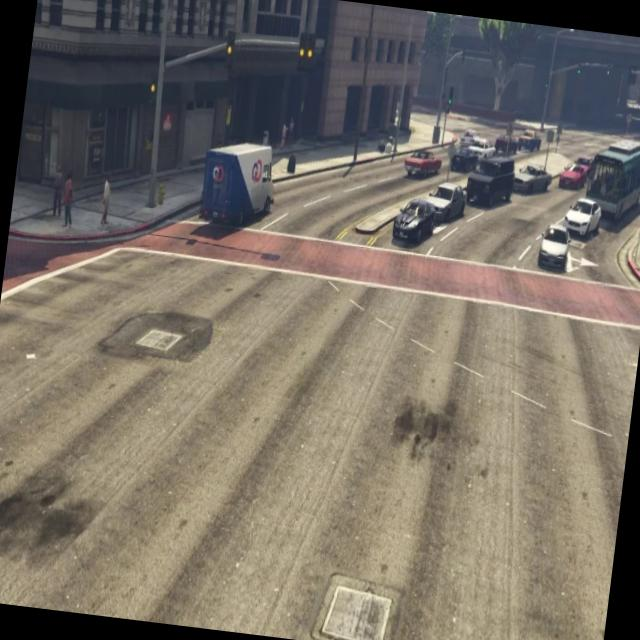Yellow-Signal: (286, 21, 321, 90), (216, 25, 244, 75), (140, 52, 163, 112)
